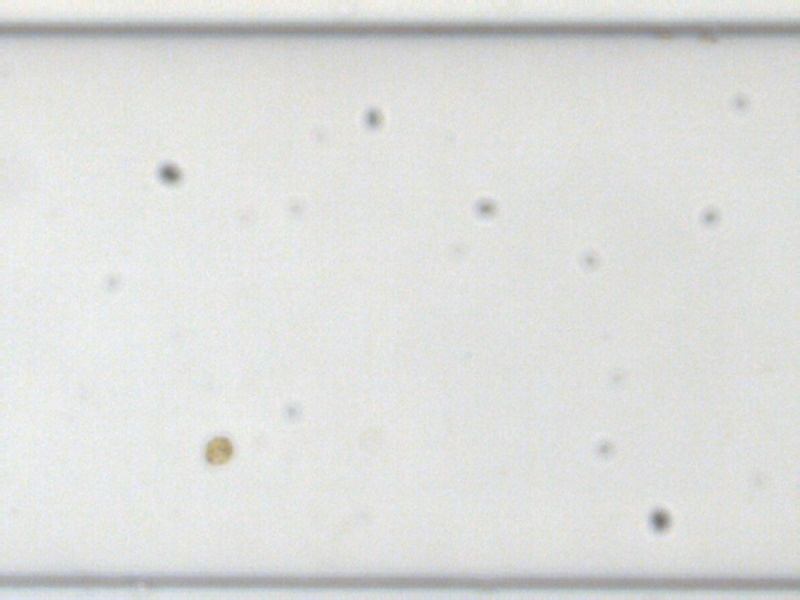Dunaliella salina: (201, 434, 233, 466)
